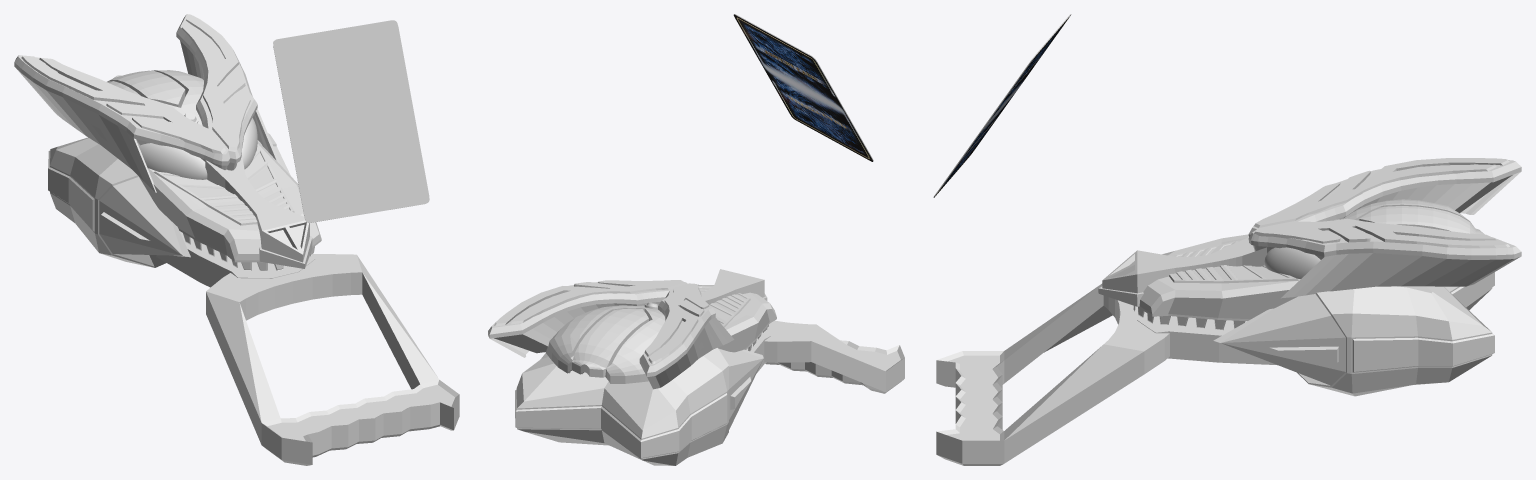
Rendered from Dragvisor.fbx.
3 views of the same model, side by side, from view 1: azimuth 30°, elevation 25°; view 2: azimuth 150°, elevation 25°; view 3: azimuth 270°, elevation 25° (orthographic). The views are drawn at different scales.
Parts seen in each view (by area): view 1: Plane.001, Plane.016, Plane.019, Plane, Plane.018, Plane.003, Plane.017, Plane.002, Plane.004, Plane.020, Plane.022, Plane.021 (+1 smaller); view 2: Plane.019, Plane, Plane.004, Plane.001, Plane.016, Plane.002, Plane.018, Plane.003, Plane.017; view 3: Plane.019, Plane.016, Plane, Plane.018, Plane.003, Plane.002, Plane.017, Plane.020, Plane.004, Plane.001, Plane.021, Plane.006.
Part boxes in pixels (bbox=[...]): Plane.001: bbox=[273, 20, 429, 222]; Plane.016: bbox=[206, 254, 459, 465]; Plane.019: bbox=[48, 133, 290, 267]; Plane: bbox=[14, 14, 279, 192]; Plane.018: bbox=[139, 141, 321, 262]; Plane.003: bbox=[21, 55, 225, 153]; Plane.017: bbox=[205, 154, 312, 268]; Plane.002: bbox=[181, 15, 250, 150]; Plane.004: bbox=[107, 70, 203, 125]; Plane.020: bbox=[156, 231, 314, 287]; Plane.022: bbox=[137, 143, 207, 179]; Plane.021: bbox=[242, 118, 257, 169]; Plane.019: bbox=[515, 348, 763, 465]; Plane: bbox=[488, 282, 734, 389]; Plane.004: bbox=[545, 304, 665, 383]; Plane.001: bbox=[733, 14, 873, 161]; Plane.016: bbox=[764, 320, 904, 393]; Plane.002: bbox=[494, 280, 685, 326]; Plane.018: bbox=[697, 284, 776, 352]; Plane.003: bbox=[644, 283, 709, 364]; Plane.017: bbox=[701, 269, 767, 305]; Plane.019: bbox=[1213, 272, 1494, 396]; Plane.016: bbox=[936, 283, 1169, 465]; Plane: bbox=[1248, 160, 1521, 298]; Plane.018: bbox=[1138, 234, 1300, 320]; Plane.003: bbox=[1254, 158, 1509, 227]; Plane.002: bbox=[1254, 218, 1509, 248]; Plane.017: bbox=[1098, 237, 1267, 306]; Plane.020: bbox=[1137, 306, 1277, 365]; Plane.004: bbox=[1342, 199, 1484, 234]; Plane.001: bbox=[933, 14, 1071, 197]; Plane.021: bbox=[1264, 247, 1320, 278]; Plane.006: bbox=[1133, 306, 1245, 330].
Bounding box in the file's own units: 132 × 261 × 352.
